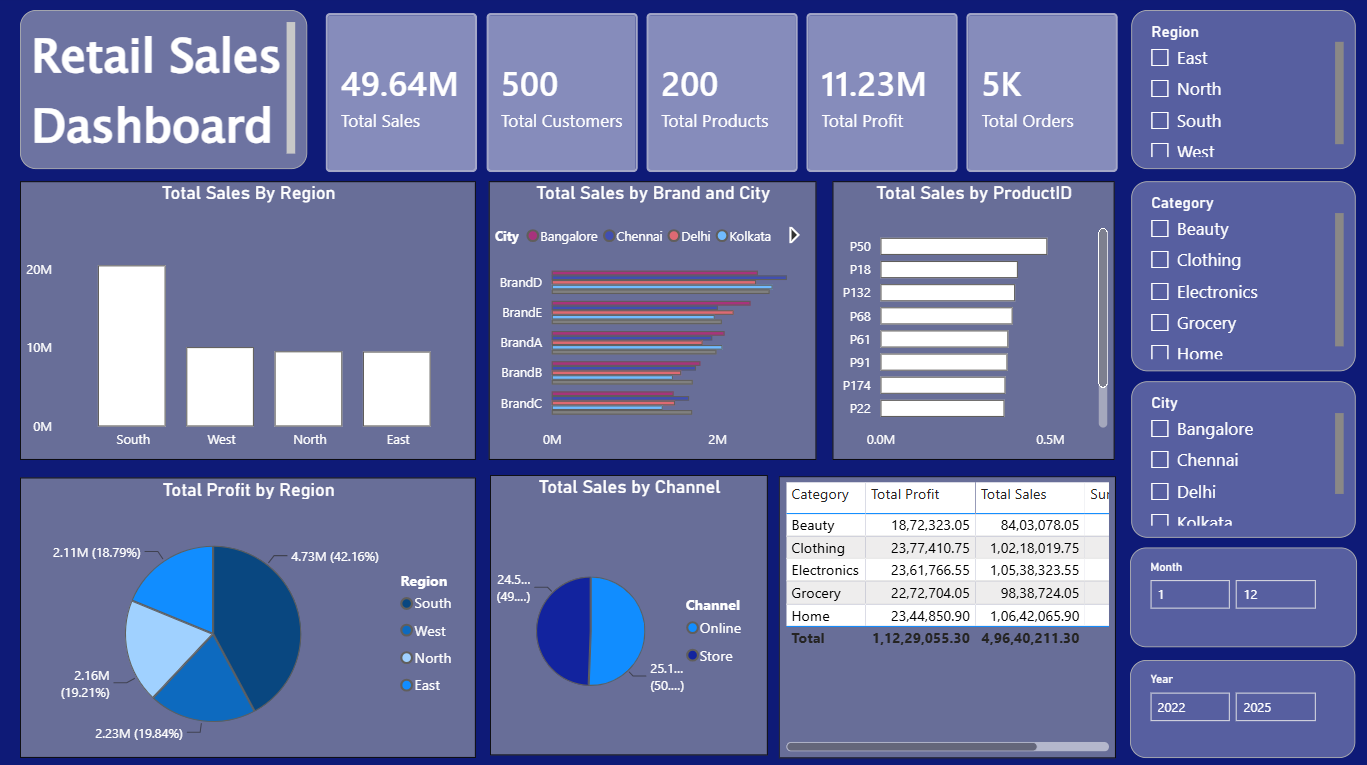

The page's visual inventory and layout, read from the dashboard file:
{"tool":"powerbi","page":{"name":"Overview","canvas":[1280,720],"ordinal":14},"visuals":[{"type":"cardVisual","fields":{"Data":["Fact Sales.Total Sales","Fact Sales.Total Customers","Fact Sales.Total Products","Fact Sales.Total Profit","Fact Sales.Total Orders"]},"box":[290.9,0,775.3,182.5],"z":0},{"type":"slicer","fields":{"Values":["Dim Customer.Region"]},"box":[1056.6,13.7,208.6,148.2],"z":1000},{"type":"slicer","fields":{"Values":["Dim Product.Category"]},"box":[1056.6,172.9,208.6,177],"z":2000},{"type":"slicer","fields":{"Values":["Dim Customer.City"]},"box":[1056.6,359.5,208.6,145.5],"z":3000},{"type":"slicer","fields":{"Values":["Dim Calender.Month"]},"box":[1056.3,514.4,211,92.5],"z":4000},{"type":"slicer","fields":{"Values":["Dim Calender.Year"]},"box":[1056.3,618.5,209.5,91],"z":5000},{"type":"textbox","box":[23.3,13.7,267.6,148.2],"z":6000},{"type":"columnChart","title":"Total Sales By Region","fields":{"Category":["Dim Customer.Region"],"Y":["Sum(Fact Sales.Sales)"]},"box":[23.3,172.9,424,259.3],"z":7000},{"type":"pieChart","fields":{"Y":["Fact Sales.Total Profit"],"Category":["Dim Customer.Region"]},"box":[22.9,448.3,424.1,261.2],"z":8000},{"type":"clusteredBarChart","fields":{"Category":["Dim Product.Brand"],"Y":["Fact Sales.Total Sales"],"Series":["Dim Customer.City"]},"box":[459.7,172.9,304.6,259.3],"z":9000},{"type":"tableEx","fields":{"Values":["Dim Product.Category","Fact Sales.Total Profit","Fact Sales.Total Sales","Sum(Fact Sales.Quantity)"]},"box":[728.9,447.8,313.3,262.2],"z":10000},{"type":"pieChart","fields":{"Y":["Fact Sales.Total Sales"],"Category":["Dim Store.Channel"]},"box":[459.9,446.5,258.2,260.9],"z":11000},{"type":"barChart","fields":{"Category":["Dim Product.ProductID"],"Y":["Fact Sales.Total Sales"]},"box":[779.4,172.9,262.1,259.3],"z":12000}]}

Visuals, with their boxes in screenshot pixels (x1, y1, x2, y2), scaled from the page's 1280x720 canvas onto the 1367x765 screenshot:
cardVisual - Fact Sales.Total Sales x Fact Sales.Total Customers: (x1=311, y1=0, x2=1139, y2=194)
slicer - Dim Customer.Region: (x1=1128, y1=15, x2=1351, y2=172)
slicer - Dim Product.Category: (x1=1128, y1=184, x2=1351, y2=372)
slicer - Dim Customer.City: (x1=1128, y1=382, x2=1351, y2=537)
slicer - Dim Calender.Month: (x1=1128, y1=547, x2=1353, y2=645)
slicer - Dim Calender.Year: (x1=1128, y1=657, x2=1352, y2=754)
textbox: (x1=25, y1=15, x2=311, y2=172)
"Total Sales By Region" columnChart: (x1=25, y1=184, x2=478, y2=459)
pieChart - Fact Sales.Total Profit x Dim Customer.Region: (x1=24, y1=476, x2=477, y2=754)
clusteredBarChart - Dim Product.Brand x Fact Sales.Total Sales: (x1=491, y1=184, x2=816, y2=459)
tableEx - Dim Product.Category x Fact Sales.Total Profit: (x1=778, y1=476, x2=1113, y2=754)
pieChart - Fact Sales.Total Sales x Dim Store.Channel: (x1=491, y1=474, x2=767, y2=752)
barChart - Dim Product.ProductID x Fact Sales.Total Sales: (x1=832, y1=184, x2=1112, y2=459)
